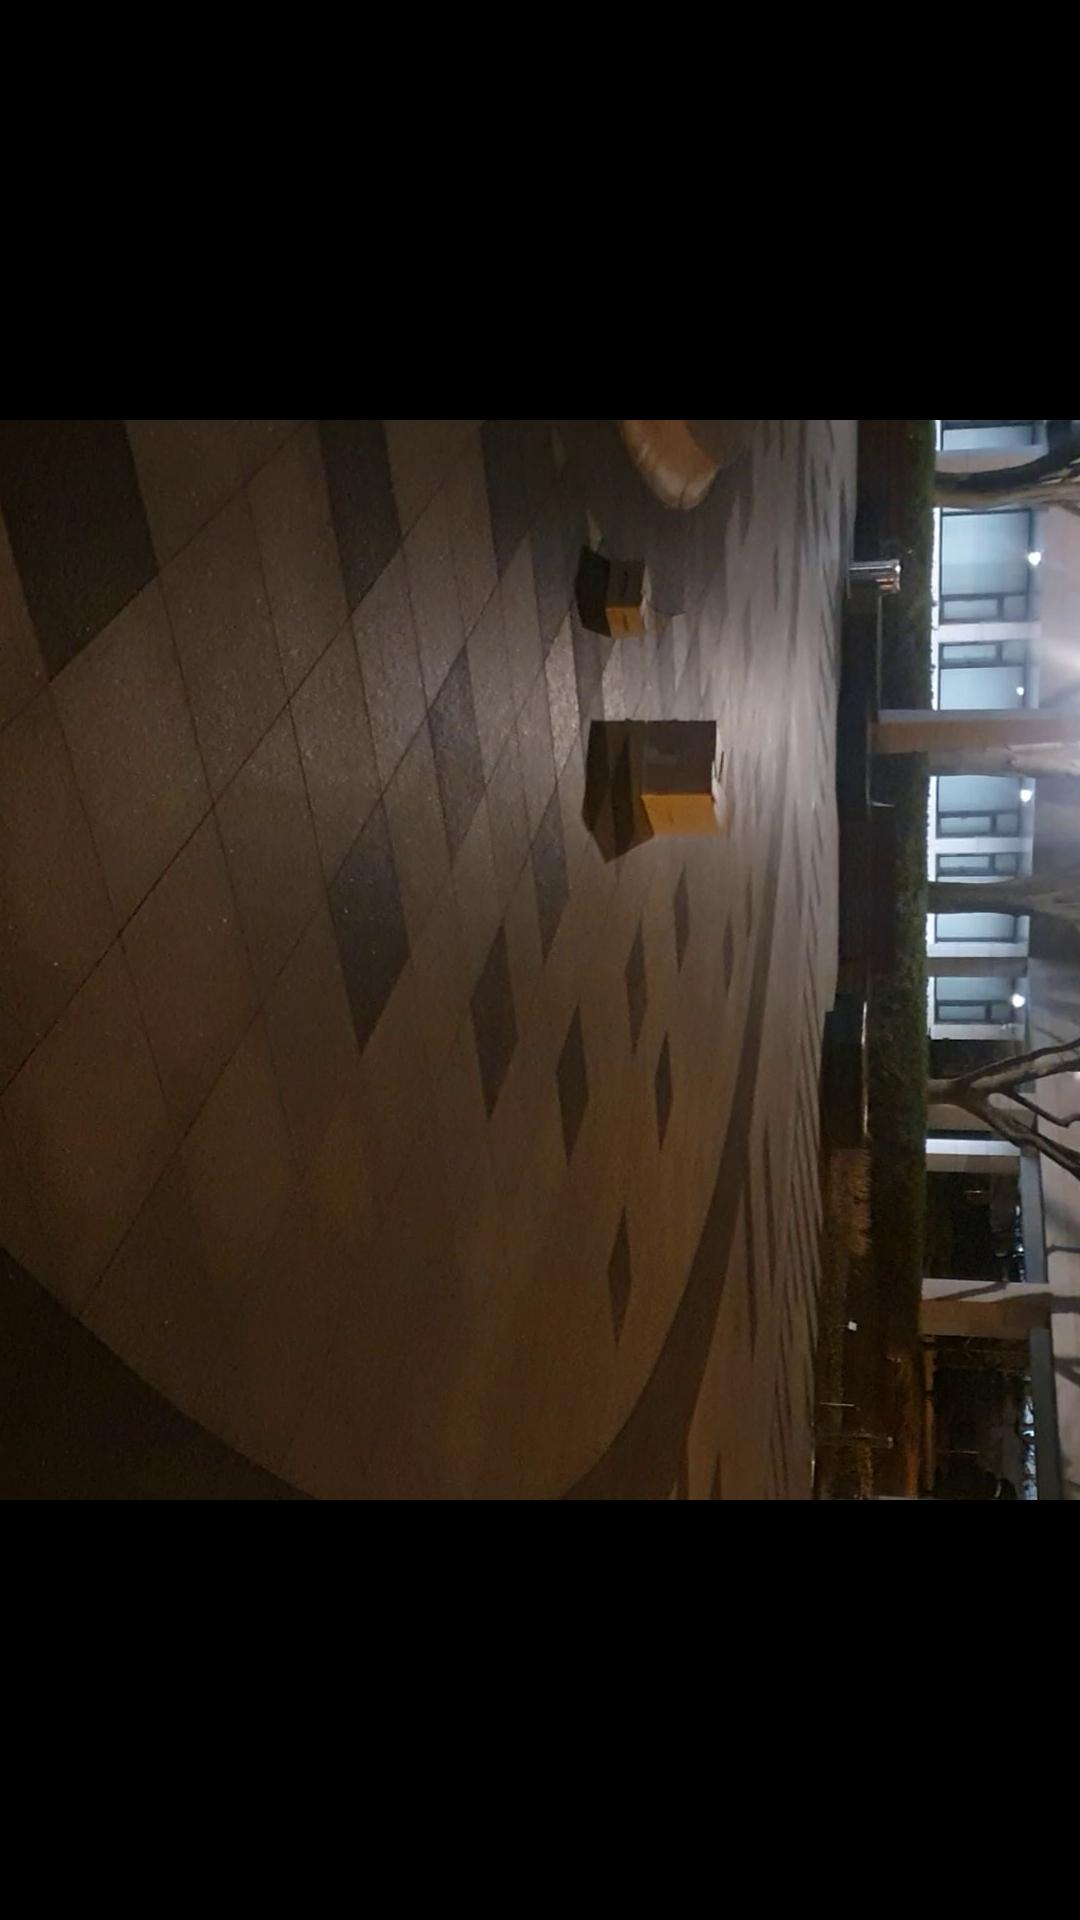Box: (622, 703, 731, 835), (600, 558, 661, 637)
